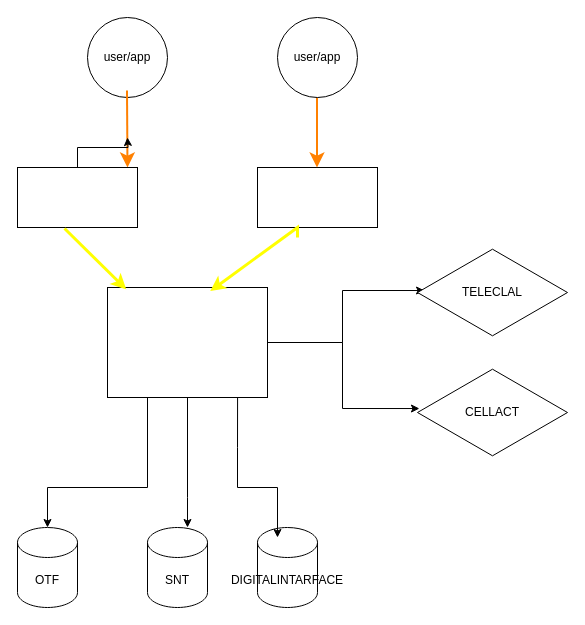
The diagram is 585 pixels wide and 625 high, and some of its shapes have lost their labels. The shapes that lost their labels are listed below. From the top down, each one's centre as x and y in pixels, then its label:
At [77,197]: "notifaction".
At [317,197]: "Dp cellact".
At [187,342]: "SMT".
